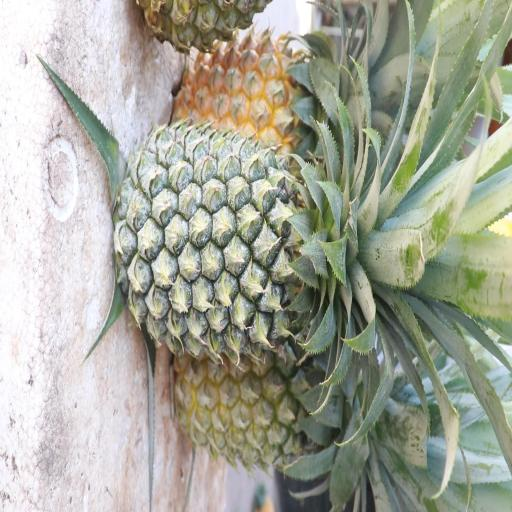------------------------------: (172, 328, 362, 476)
Pineapple - v8 v1: (181, 14, 352, 150)
